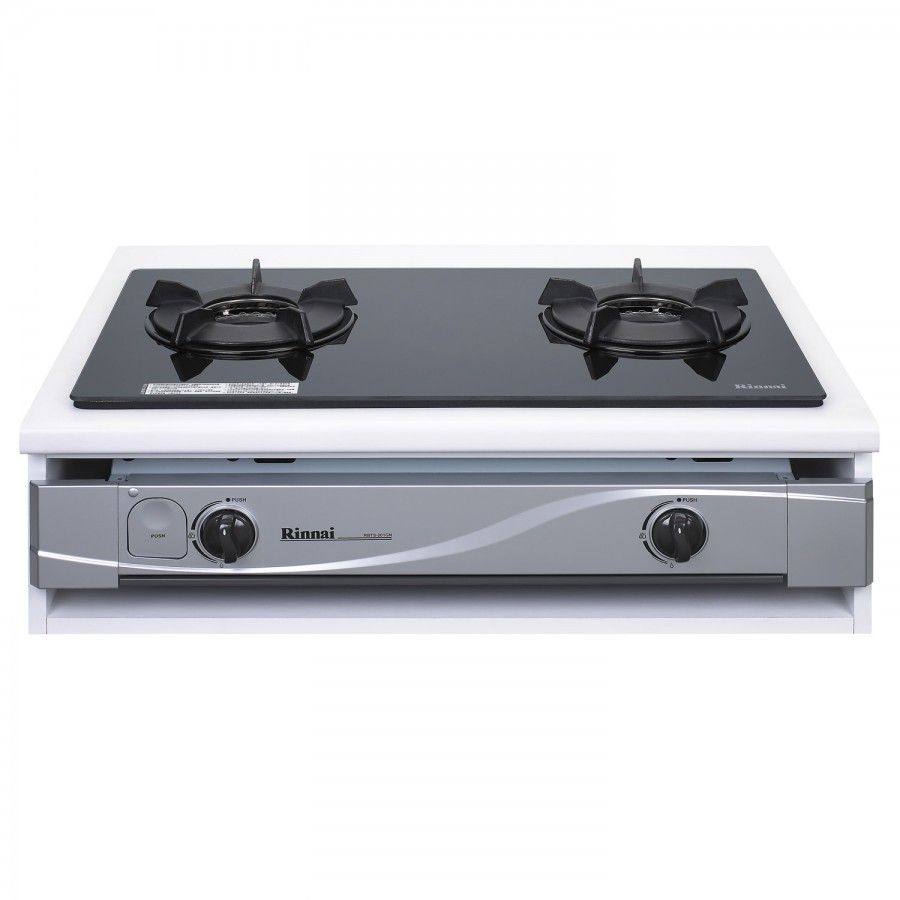gasoven: (18, 239, 874, 600)
